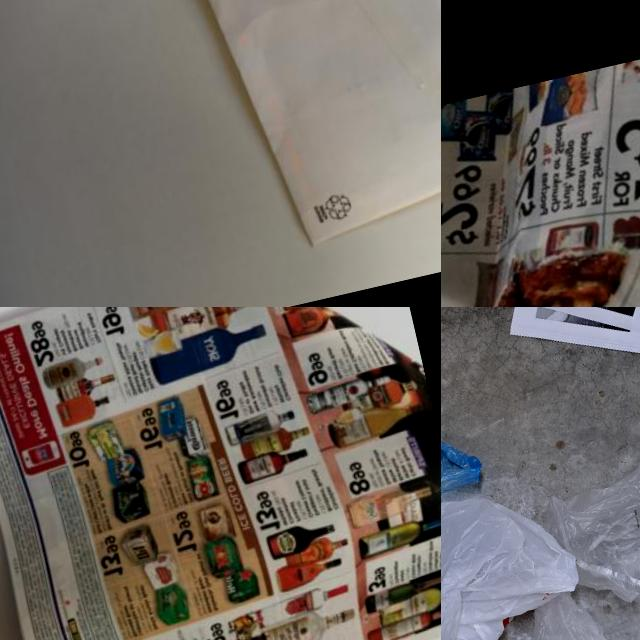papel: (0, 307, 441, 640), (142, 0, 441, 264), (441, 0, 640, 307), (441, 307, 640, 397)
sacola plástica: (441, 478, 600, 640), (532, 440, 640, 640), (441, 384, 512, 640)
